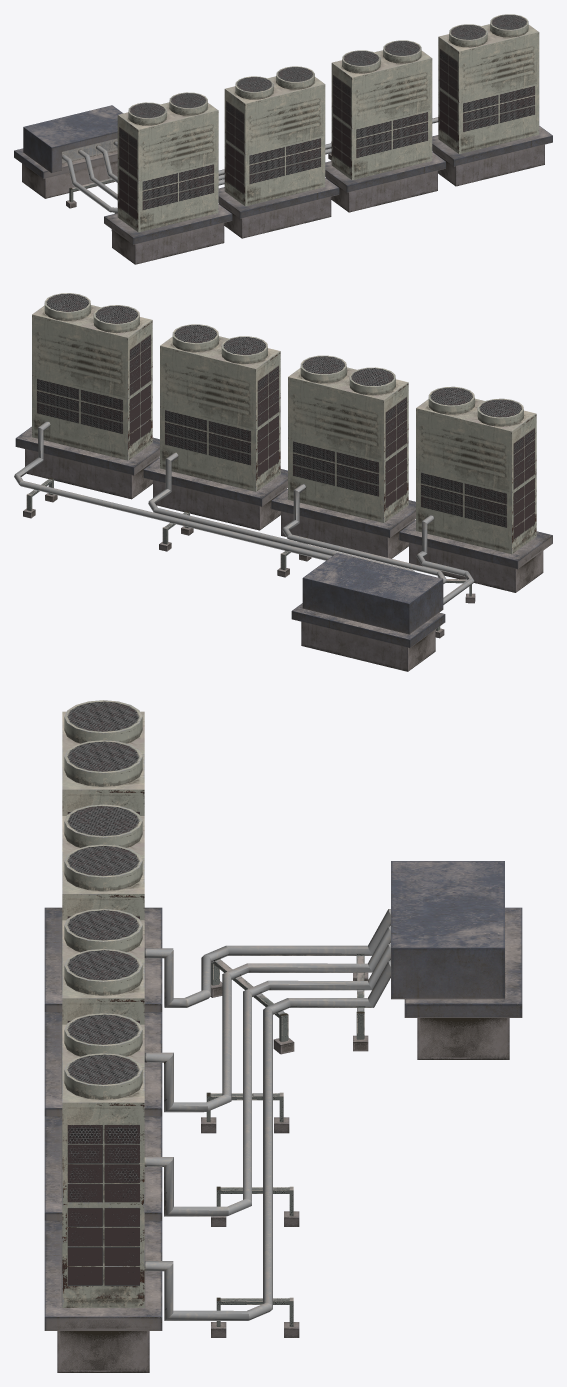
The model's file is roof_condenser.fbx.
3 views of the same model, one above another, from view 1: azimuth 30°, elevation 25°; view 2: azimuth 150°, elevation 25°; view 3: azimuth 270°, elevation 25° (orthographic). The views are drawn at different scales.
Visible parts, largest first — view 1: roof_condenser; view 2: roof_condenser; view 3: roof_condenser.
Boxes of the visible parts, x1,y1,x2,y2 form: roof_condenser: (14, 14, 552, 264); roof_condenser: (14, 293, 552, 671); roof_condenser: (44, 700, 522, 1372).
Bounding box in the file's own units: 942 × 300 × 464.
Materials: 1 (1 with a texture image).
